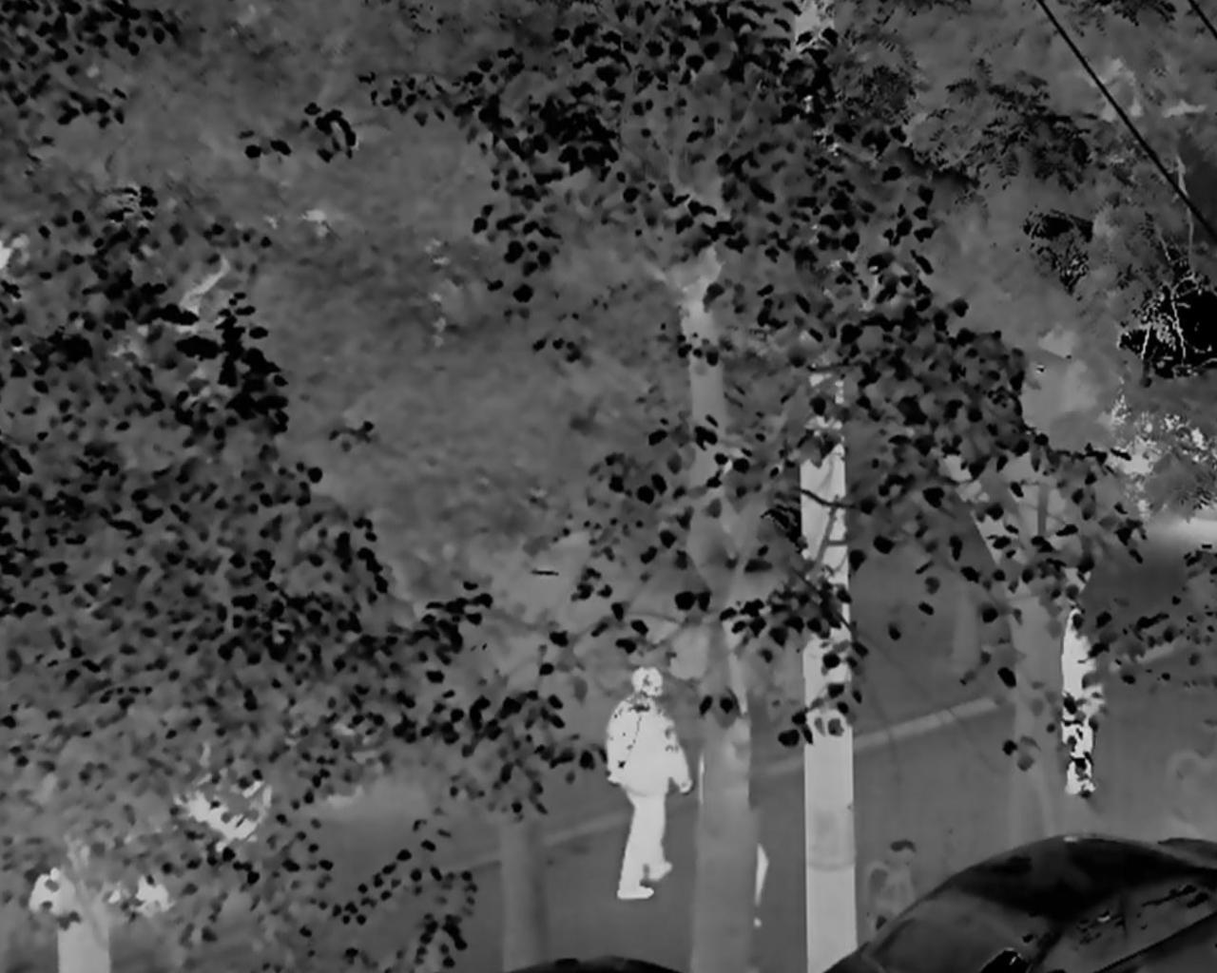person: (598, 662, 691, 909), (1062, 603, 1106, 800)
